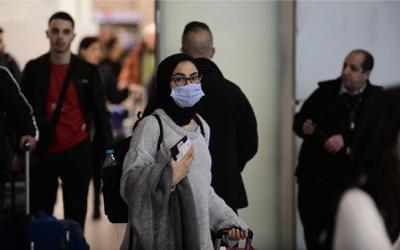with_mask: (170, 71, 206, 107)
without_mask: (340, 60, 363, 88), (48, 25, 71, 52)
